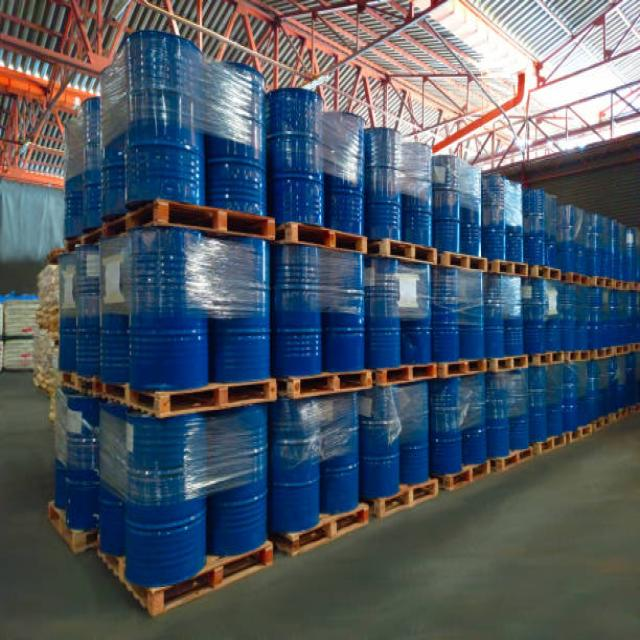Wooden-Pallets: (148, 531, 279, 623), (153, 361, 278, 428), (148, 187, 275, 251), (286, 491, 369, 575), (288, 353, 375, 411), (287, 211, 372, 268), (375, 466, 442, 533), (380, 347, 443, 395), (380, 229, 443, 273)
